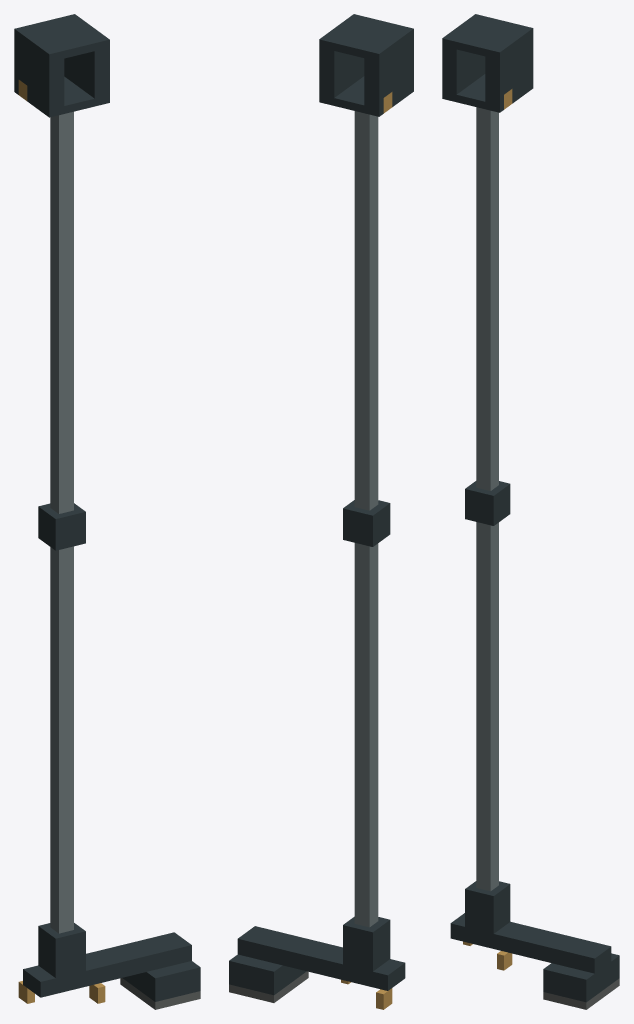
3 renders of one model, left to right at view 1: azimuth 30°, elevation 25°; view 2: azimuth 150°, elevation 25°; view 3: azimuth 330°, elevation 25°, orthographic. The views are drawn at different scales.
Visible parts, largest first — view 1: 既有长桥竖吊杆; view 2: 既有长桥竖吊杆; view 3: 既有长桥竖吊杆.
Boxes of the visible parts, x1,y1,x2,y2 form: 既有长桥竖吊杆: (14, 14, 200, 1009); 既有长桥竖吊杆: (229, 14, 413, 1009); 既有长桥竖吊杆: (442, 14, 619, 1009).
Bounding box in the file's own units: 2 × 12.4 × 0.8.
Materials: 4 (4 with a texture image).
